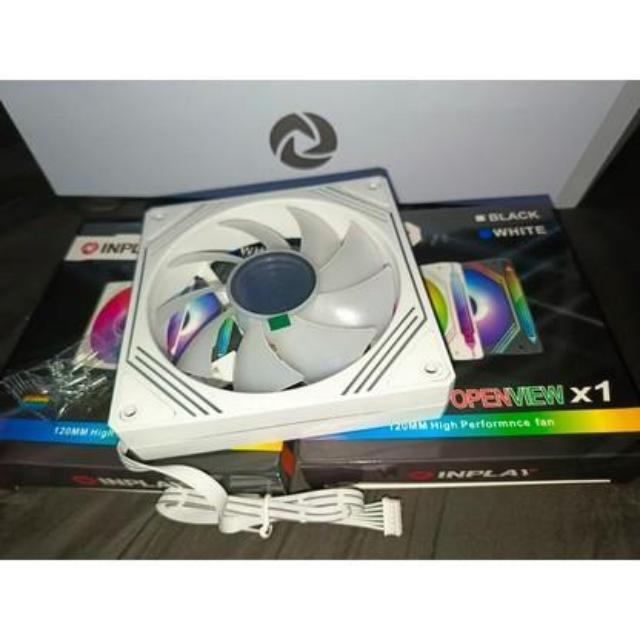CPU_Fan: (74, 151, 509, 500)
